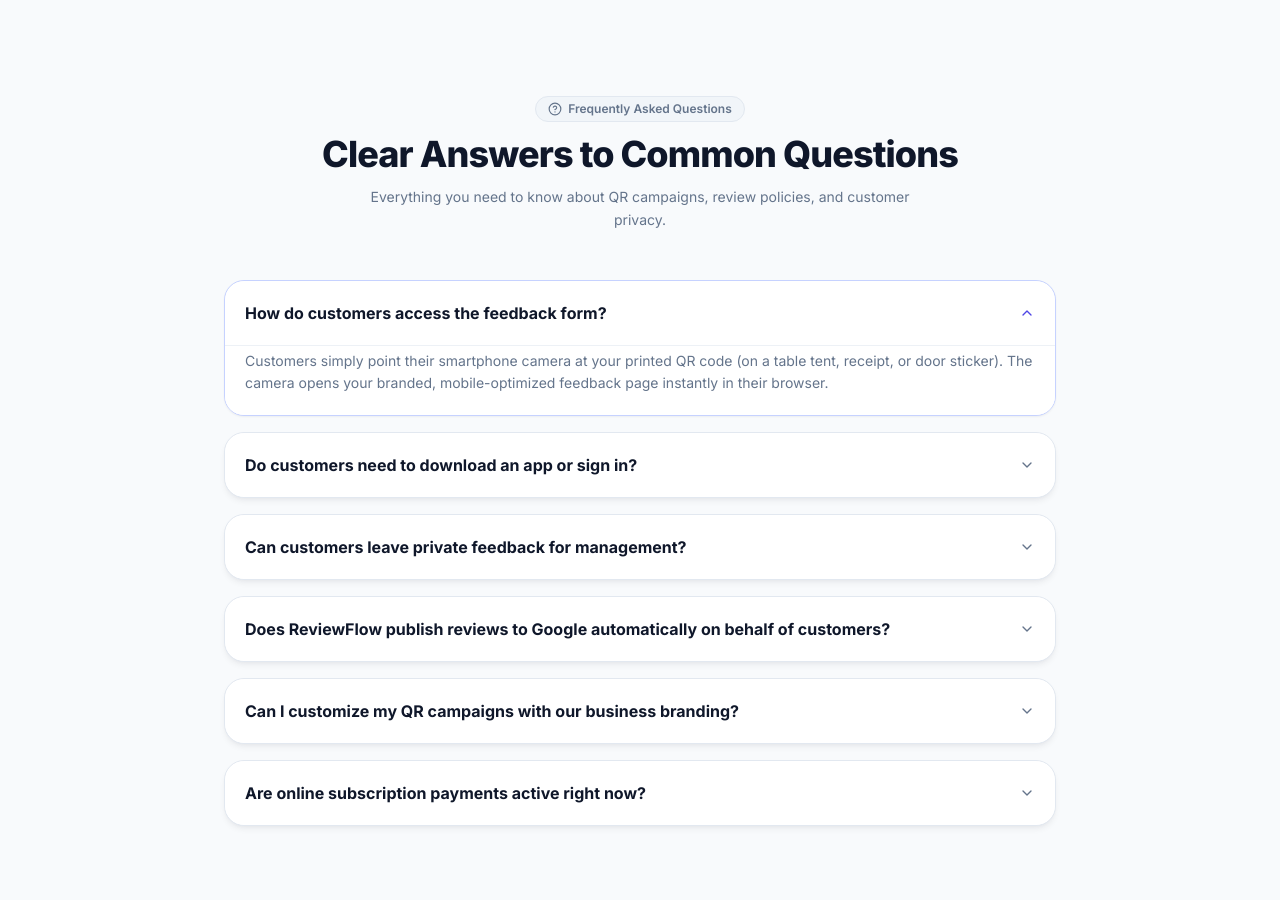
it: FAQ Component › should toggle accordion open and closed when clicked
The width and height of the screenshot is (1280, 900).
Note: Clicking the first button collapses it
Click the button "How do customers access the feedback form?": (426, 312) [225,280,1055,344]
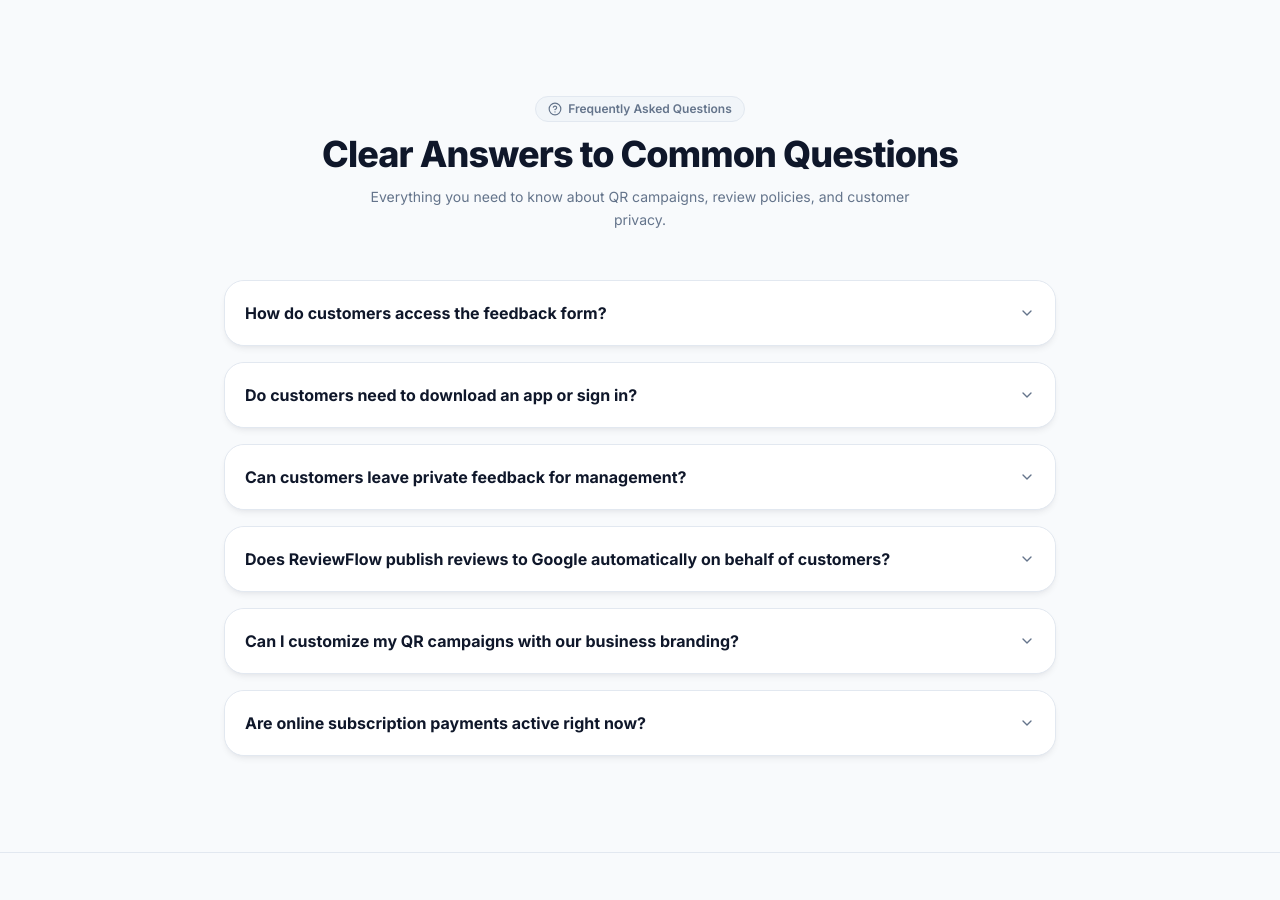
Result: the button "How do customers access the feedback form?" is collapsed at [225,280,1055,344]
Note: Clicking the second button opens it
Click the button "Do customers need to download an app or sign in?": (640, 394) [225,362,1055,426]
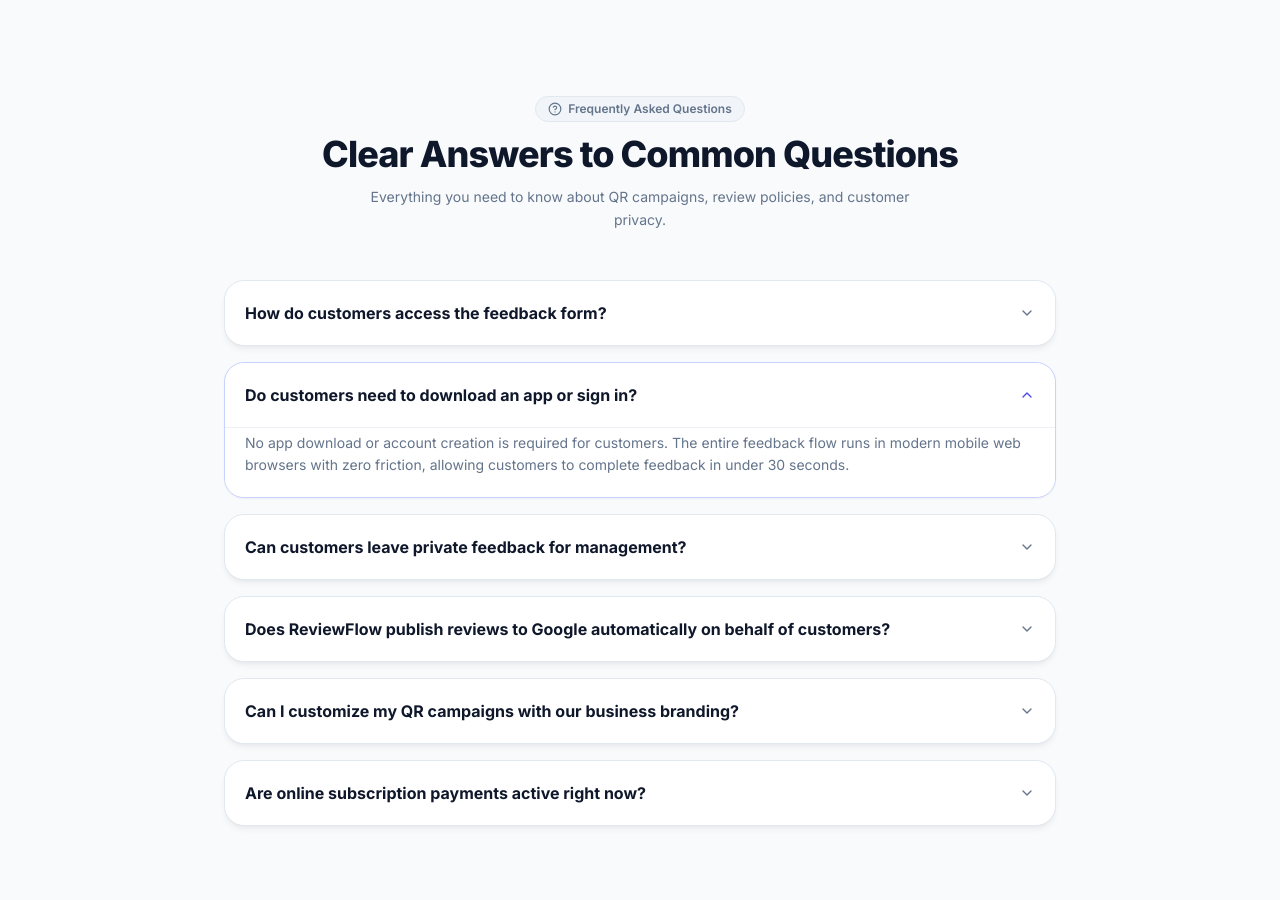
Result: the button "How do customers access the feedback form?" is collapsed at [225,280,1055,344]
Result: the button "Do customers need to download an app or sign in?" is expanded at [225,362,1055,426]
Result: the text "No app download or account creation is required" is shown at [245,434,1021,473]
